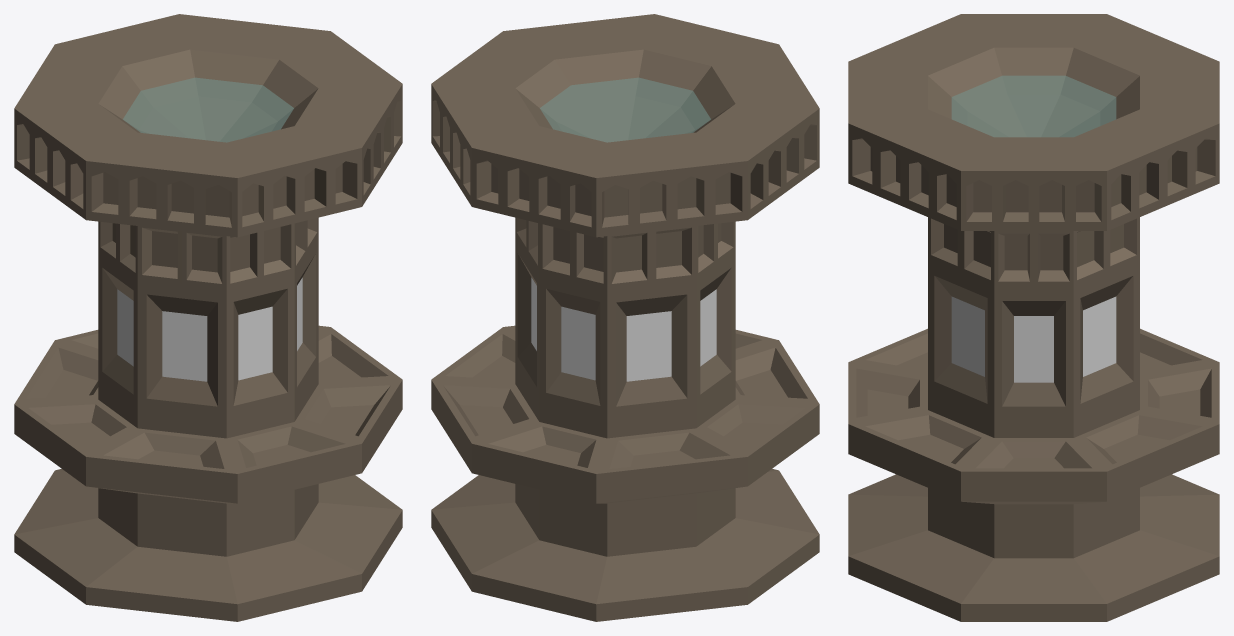
Rendered from well.fbx.
3 views of the same model, side by side, from view 1: azimuth 30°, elevation 25°; view 2: azimuth 150°, elevation 25°; view 3: azimuth 270°, elevation 25° (orthographic).
Parts seen in each view (by area): view 1: Sink1, Sink3, Sink2, Water; view 2: Sink1, Sink3, Sink2, Water; view 3: Sink1, Sink3, Sink2, Water.
Part boxes in pixels (x1,y1,x2,y2): Sink1: (14,14,402,621); Sink3: (14,84,402,237); Sink2: (98,217,318,290); Water: (123,77,293,142); Sink1: (431,14,819,621); Sink3: (431,84,819,237); Sink2: (515,217,735,290); Water: (540,77,710,142); Sink1: (848,14,1219,621); Sink3: (848,123,1219,230); Sink2: (928,217,1139,287); Water: (951,75,1116,137).
Size of the model in its own units: 560 by 750 by 560.
